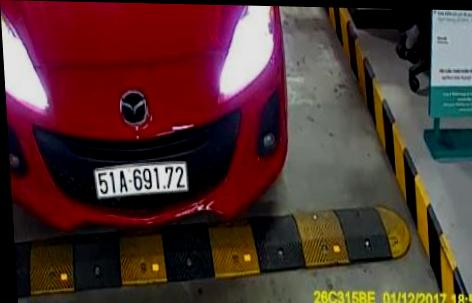License_Plate: (96, 163, 190, 197)
